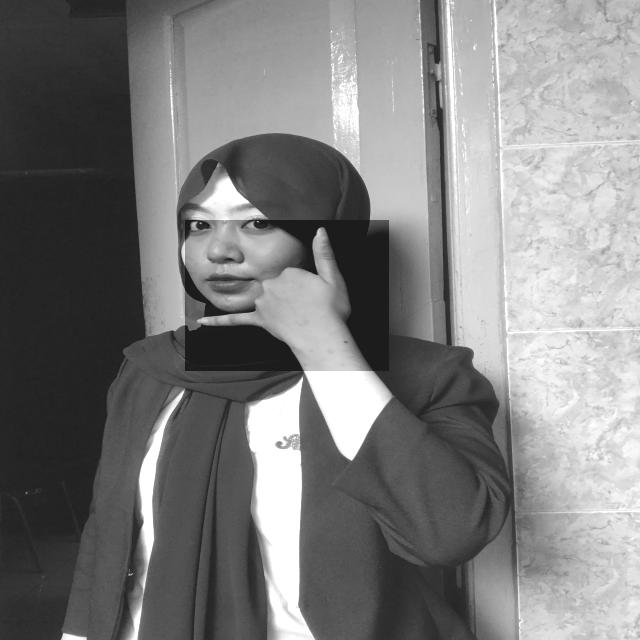telpon: (185, 220, 389, 371)
